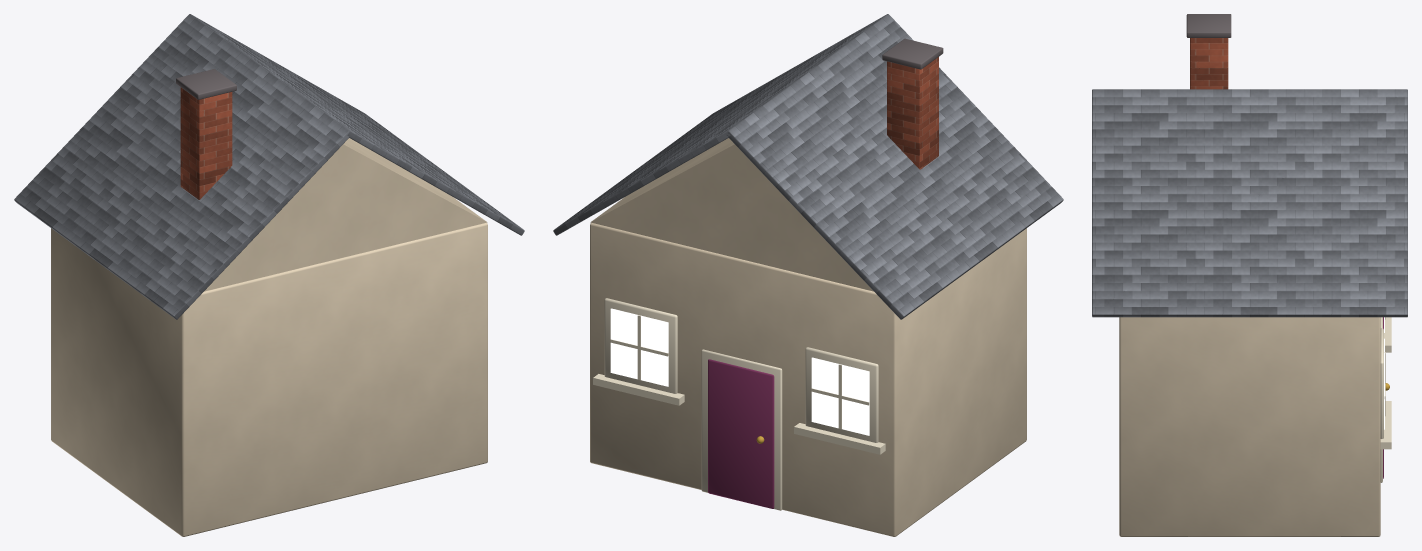
The model's file is house_1.fbx.
3 views of the same model, side by side, from view 1: azimuth 30°, elevation 25°; view 2: azimuth 150°, elevation 25°; view 3: azimuth 270°, elevation 25° (orthographic).
Parts seen in each view (by area): view 1: house_1; view 2: house_1; view 3: house_1.
Boxes of the visible parts, bbox=[...] form: house_1: bbox=[14, 14, 524, 536]; house_1: bbox=[553, 14, 1063, 536]; house_1: bbox=[1092, 14, 1407, 536].
Size of the model in its own units: 3.67 by 4.06 by 2.9.
